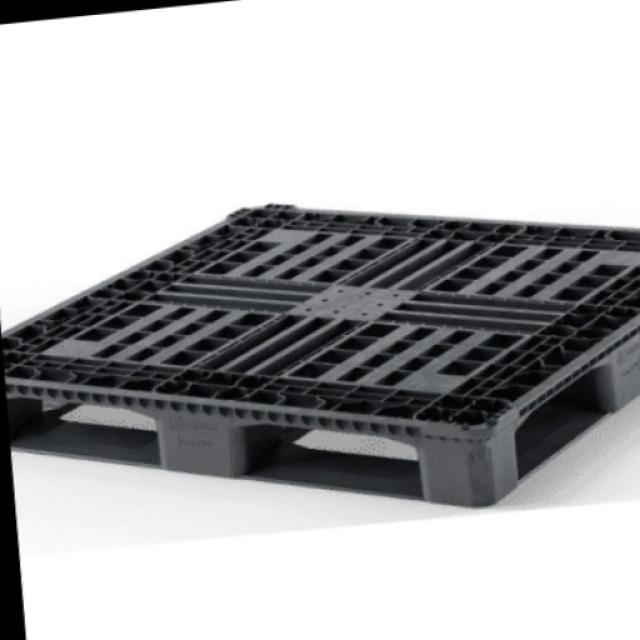non-igps: (0, 192, 640, 514)
